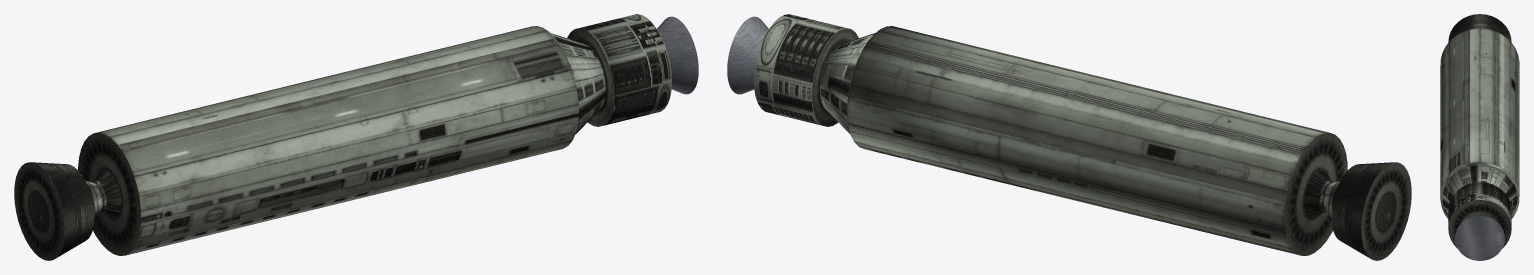
Rendered from silents_textured.glb.
The picture shows the model from 3 angles, left to right: view 1: azimuth 30°, elevation 25°; view 2: azimuth 150°, elevation 25°; view 3: azimuth 270°, elevation 25°; orthographic projection. The views are drawn at different scales.
Parts seen in each view (by area): view 1: Cone, Cylinder, Cylinder.001, Cone.002, Cylinder.002; view 2: Cone, Cylinder, Cylinder.001, Cone.002, Cylinder.002; view 3: Cone, Cylinder.001, Cylinder.002, Cone.002, Cylinder.
Part boxes in pixels (left/top/right/bottom): Cone: left=78, top=26, right=578, bottom=255; Cylinder: left=14, top=162, right=121, bottom=260; Cylinder.001: left=567, top=14, right=671, bottom=126; Cone.002: left=551, top=33, right=605, bottom=134; Cylinder.002: left=657, top=16, right=698, bottom=94; Cone: left=847, top=26, right=1347, bottom=255; Cylinder: left=1304, top=162, right=1411, bottom=260; Cylinder.001: left=754, top=14, right=858, bottom=126; Cone.002: left=820, top=33, right=874, bottom=134; Cylinder.002: left=727, top=16, right=768, bottom=94; Cone: left=1440, top=28, right=1519, bottom=218; Cylinder.001: left=1448, top=182, right=1511, bottom=248; Cylinder.002: left=1455, top=215, right=1504, bottom=260; Cone.002: left=1442, top=164, right=1517, bottom=215; Cylinder: left=1448, top=14, right=1511, bottom=42.
Size of the model in its own units: 14.61 by 2.5 by 2.5.
2 materials, 2 textured.
